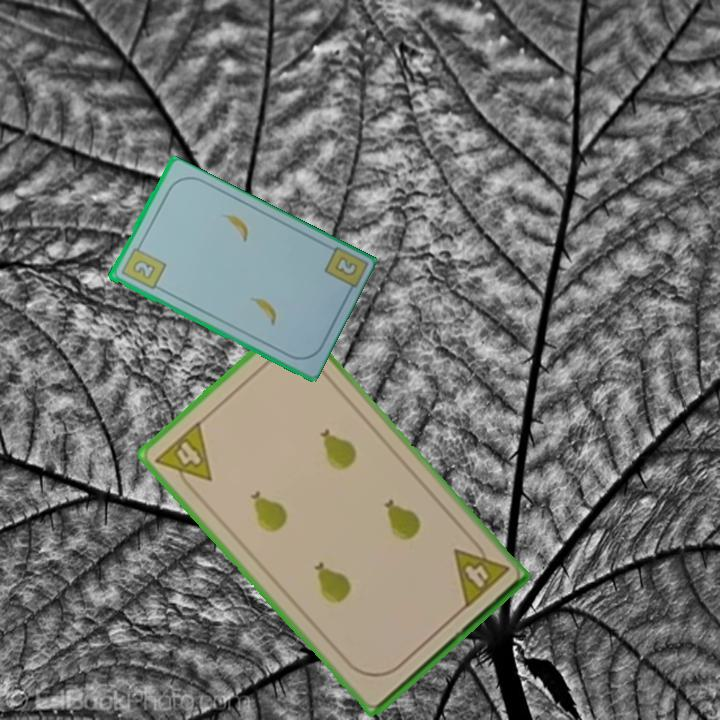2b: (117, 240, 168, 292), (331, 253, 360, 279)
4p: (151, 417, 215, 498), (449, 533, 512, 612)
